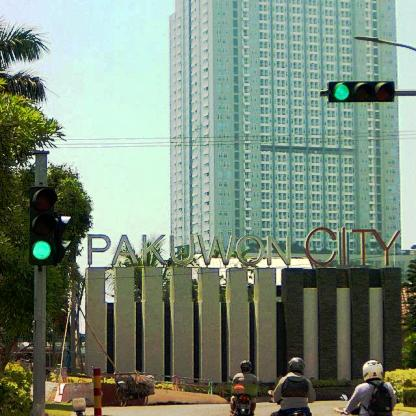Traffic Light -Green-: (29, 184, 57, 266), (328, 80, 397, 103)
